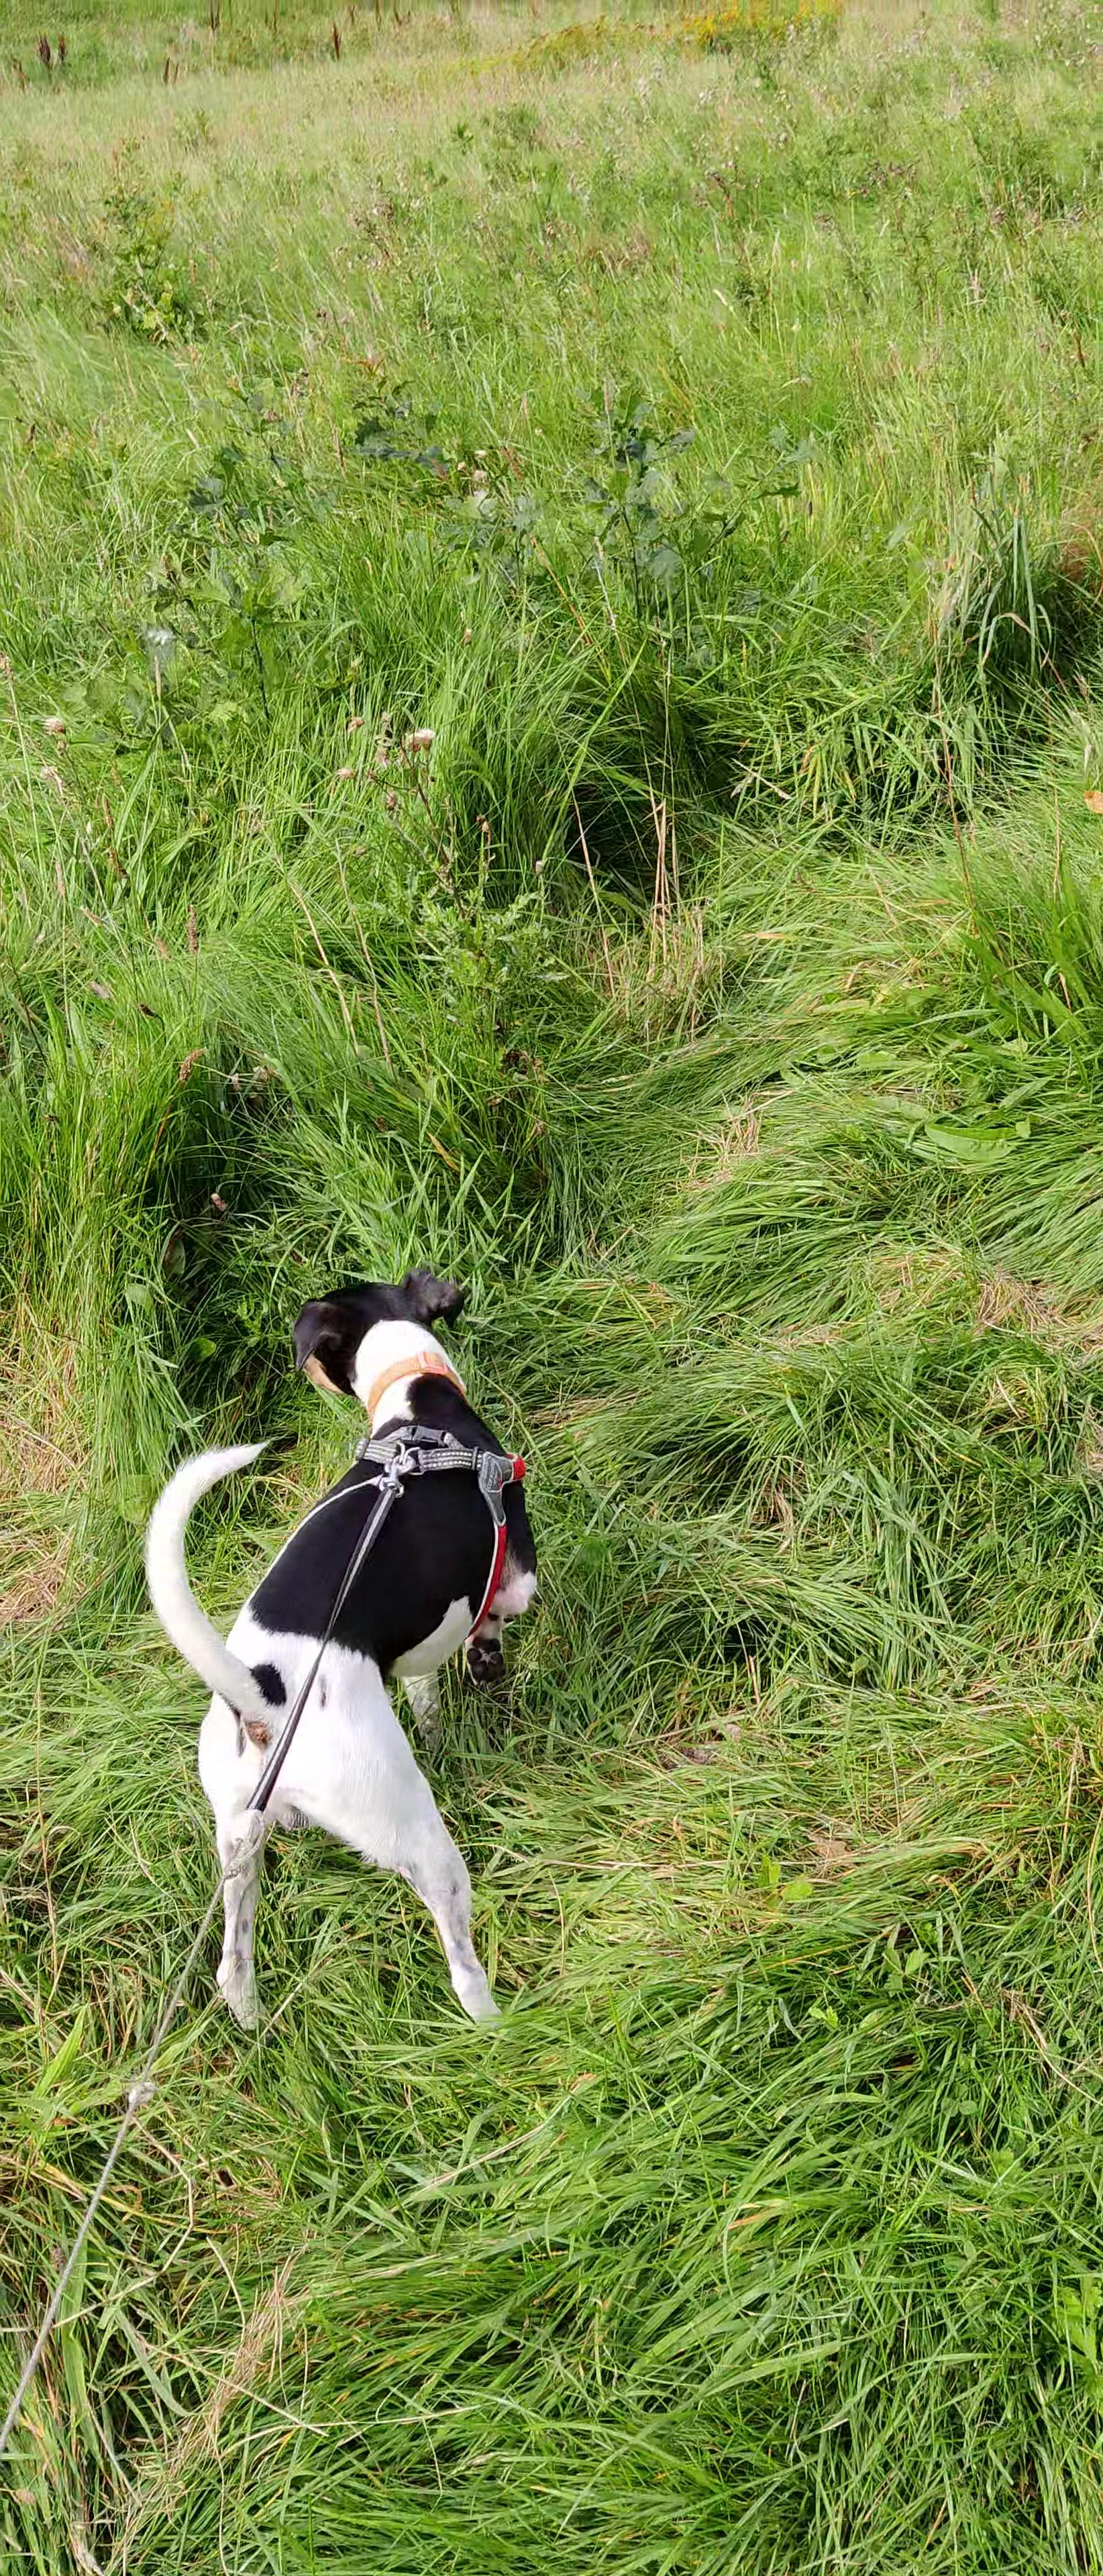Dog: (125, 1244, 598, 2052)
